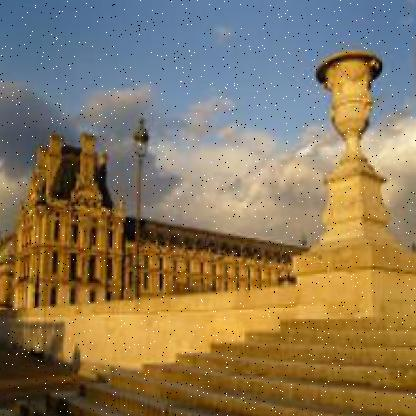stair_up: (201, 298, 390, 410)
